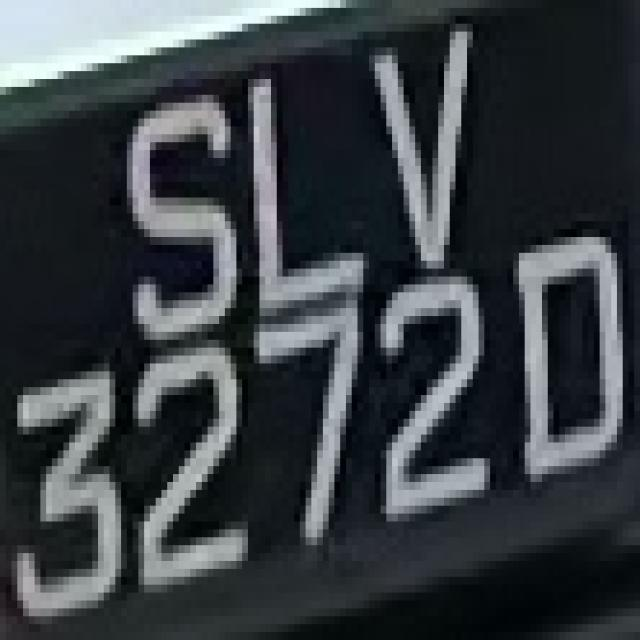2: (369, 261, 502, 529), (132, 340, 254, 616)
3: (0, 355, 127, 640)
7: (242, 292, 369, 561)
D: (502, 221, 617, 514)
L: (236, 39, 369, 332)
S: (104, 63, 242, 348)
V: (334, 16, 502, 253)
